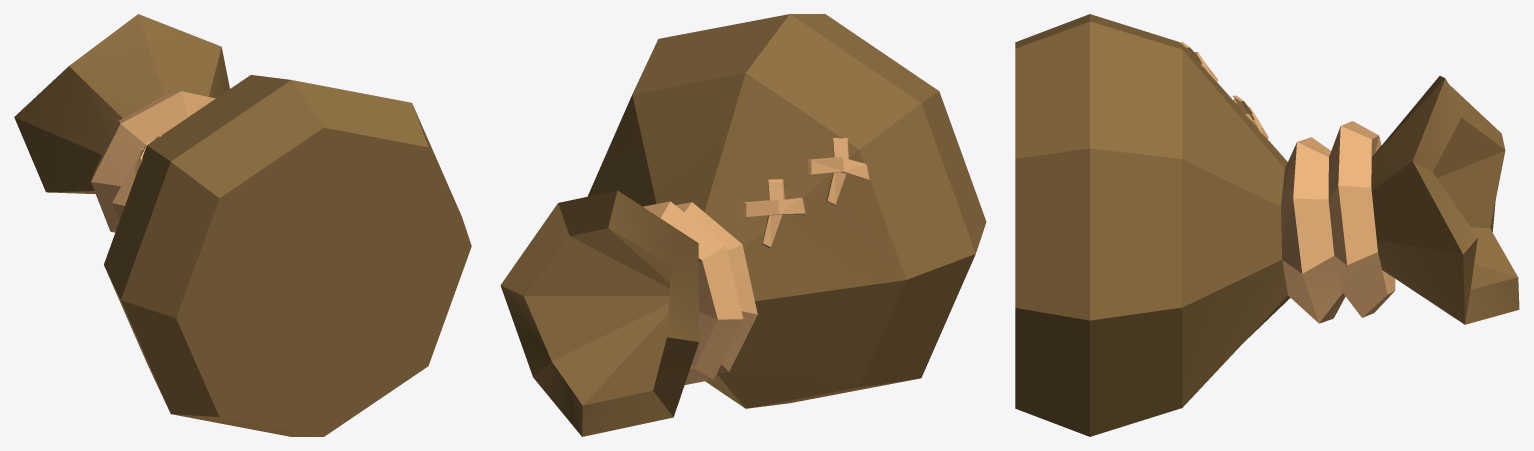
File: Sack.fbx
3 renders of one model, left to right at view 1: azimuth 30°, elevation 25°; view 2: azimuth 150°, elevation 25°; view 3: azimuth 270°, elevation 25°, orthographic. The views are drawn at different scales.
Parts seen in each view (by area): view 1: Sack.001; view 2: Sack.001; view 3: Sack.001.
Boxes of the visible parts, left/top/right/bottom form: Sack.001: left=14, top=14, right=471, bottom=436; Sack.001: left=500, top=14, right=986, bottom=436; Sack.001: left=1015, top=14, right=1519, bottom=436.
Size of the model in its own units: 59.03 by 66.09 by 59.03.
